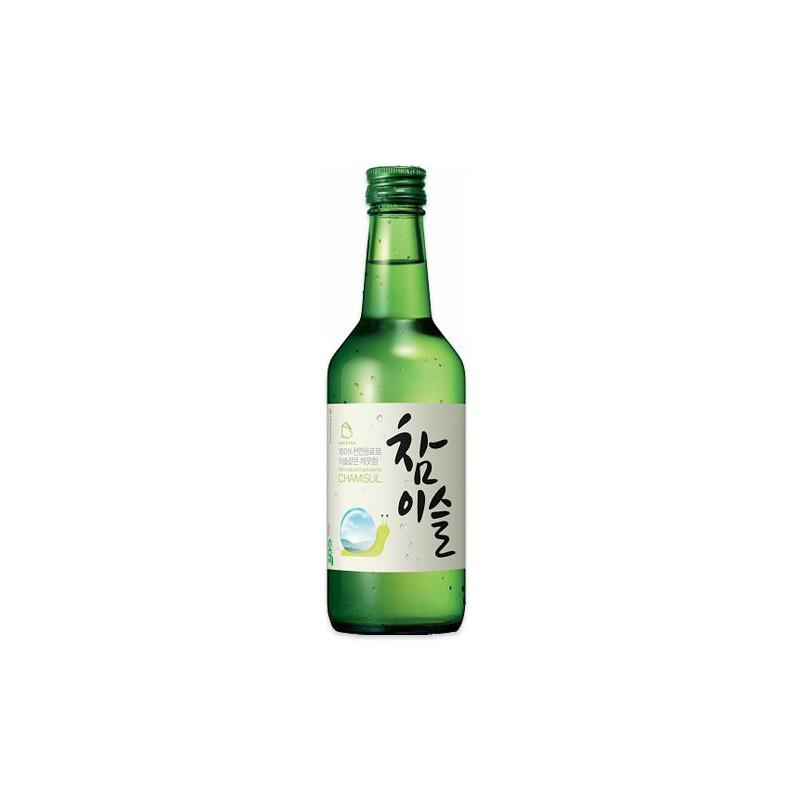soju: (323, 162, 475, 642)
